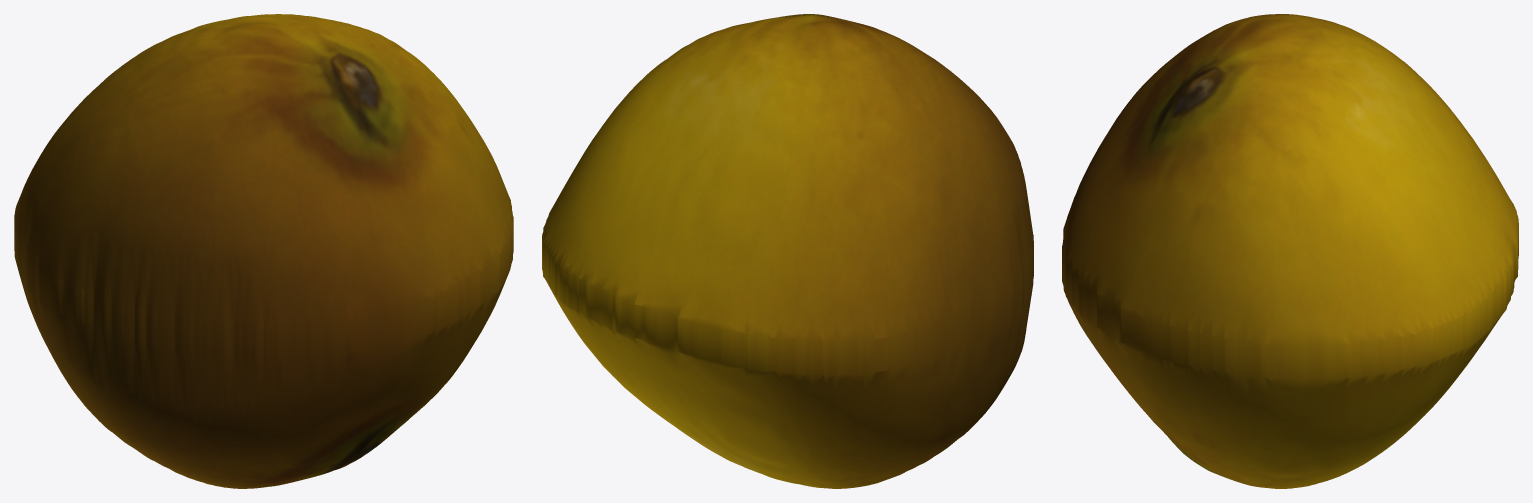
Rendered from lemon_9_2.obj.
3 renders of one model, left to right at view 1: azimuth 30°, elevation 25°; view 2: azimuth 150°, elevation 25°; view 3: azimuth 270°, elevation 25°, orthographic. The views are drawn at different scales.
Parts seen in each view (by area): view 1: Grid; view 2: Grid; view 3: Grid.
Boxes of the visible parts, <box> form: Grid: <box>14,14,513,488</box>; Grid: <box>542,14,1033,488</box>; Grid: <box>1062,14,1518,488</box>.
Size of the model in its own units: 1.63 by 1.6 by 1.52.
Materials: 1 (1 with a texture image).
